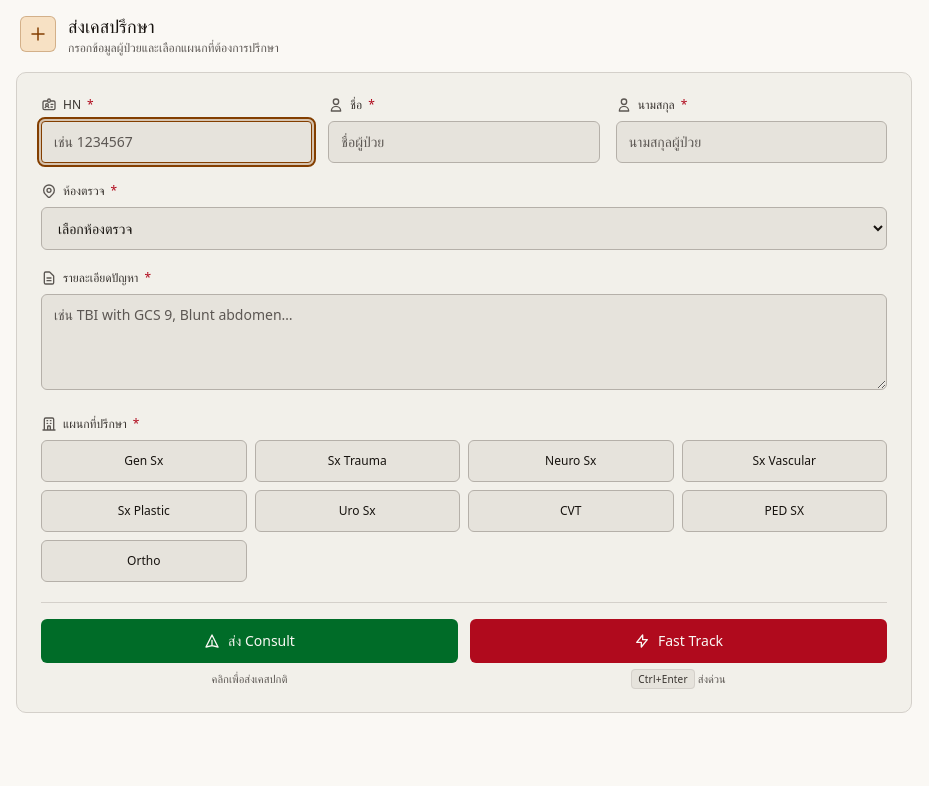
Test: SubmitPage mount and redirect safety › preserves unrelated pending recovery banner and keeps staff on /submit after submitting a new case
Type "123456" into the field labelled "HN *". click: (177,142)
box: [41,121,312,163]
Type "สมชาย" into the field with placeholder "ชื่อผู้ป่วย". click: (464,142)
box: [328,121,600,163]
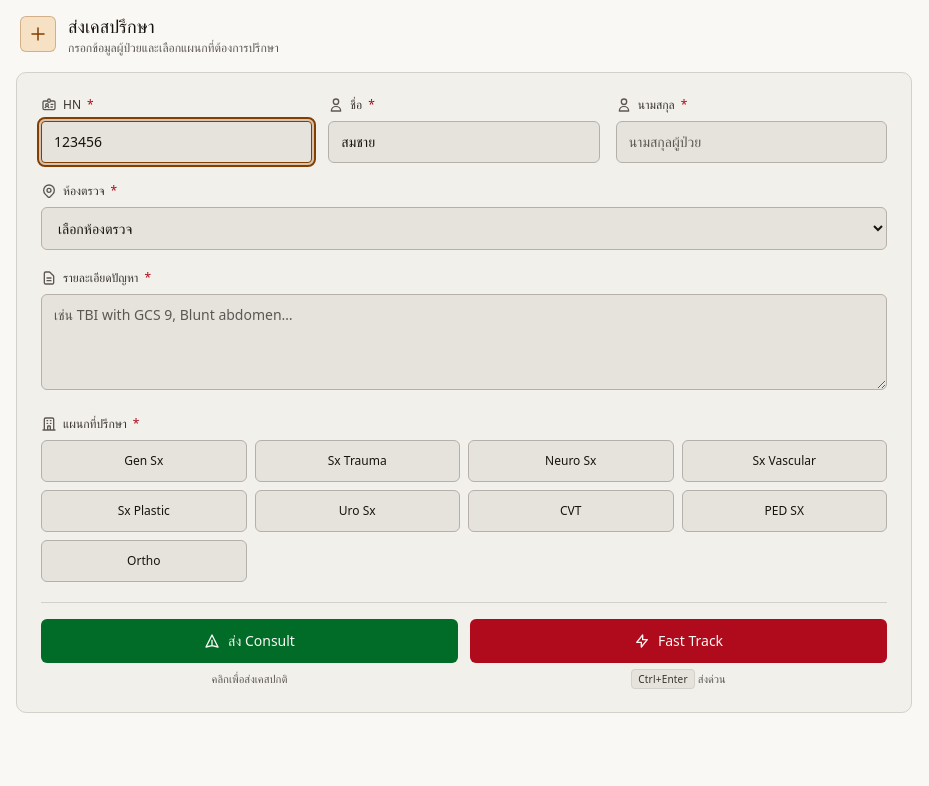
Type "ใจดี" into the field with placeholder "นามสกุลผู้ป่วย". click: (751,142)
box: [616,121,887,163]
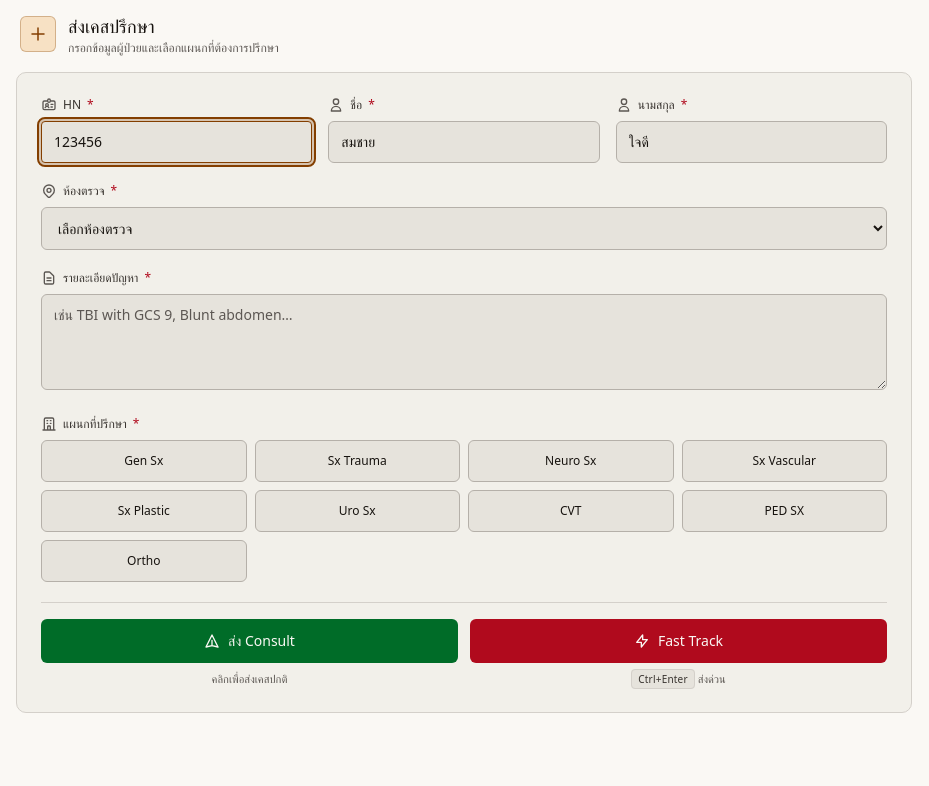
Select "Resus Team 1" in the dropdown labelled "ห้องตรวจ *". click: (464,228)
box: [41,207,887,250]
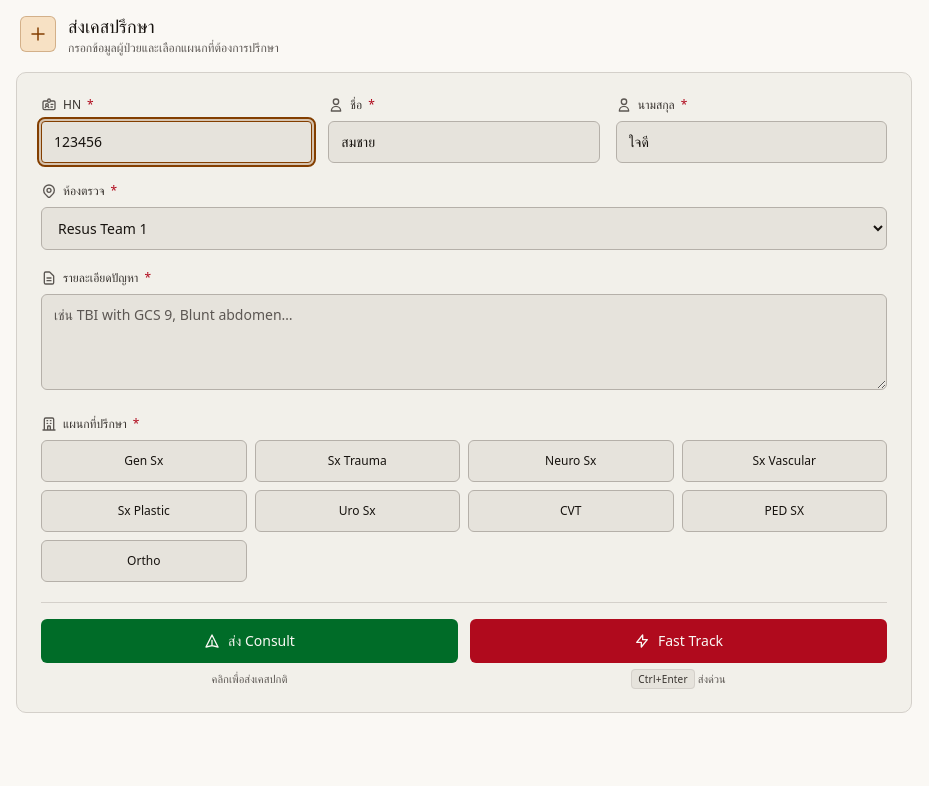
Type "Acute abdomen" into the text box labelled "รายละเอียดปัญหา *". click: (464,342)
box: [41,294,887,390]
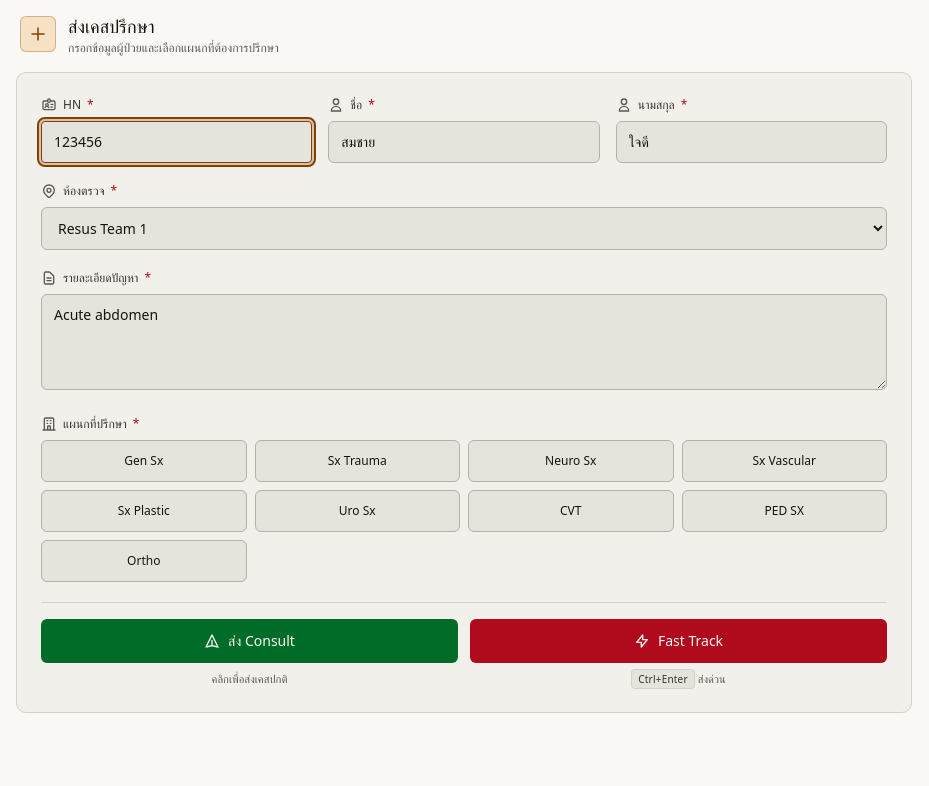
Click the checkbox labelled "Gen Sx". click: (144,461)
box: [41,440,246,482]
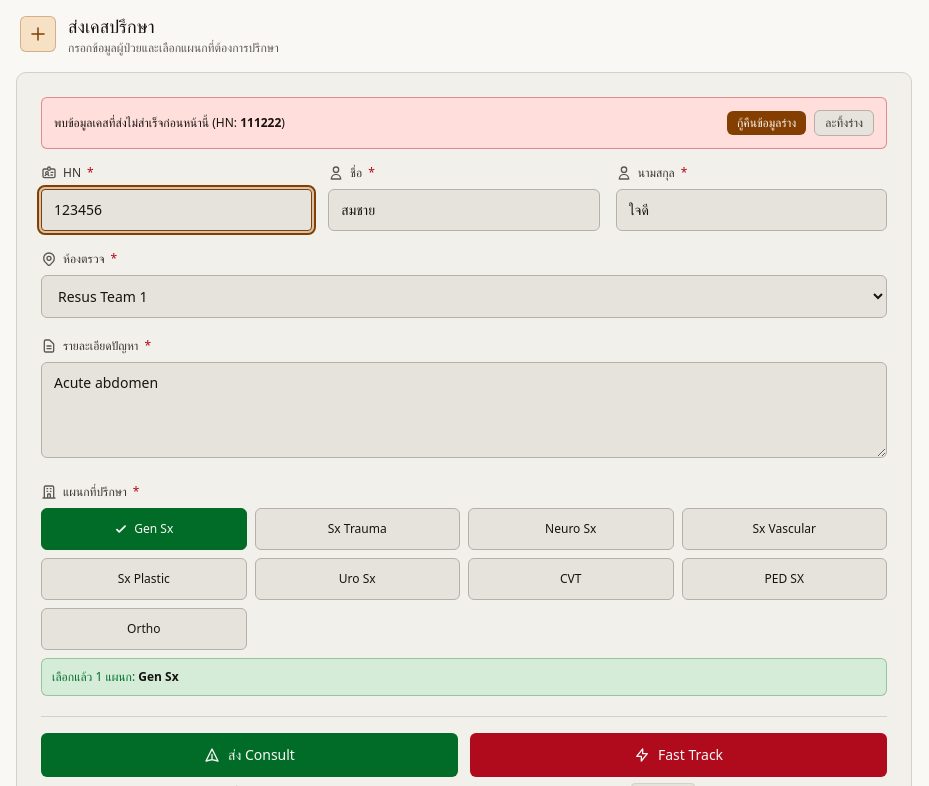
Now the button "กู้คืนข้อมูลร่าง" is shown, box [727,111,806,135]
Click the button "ส่ง Consult". click: (250,755)
box: [41,733,458,777]
Wait 2000 ms
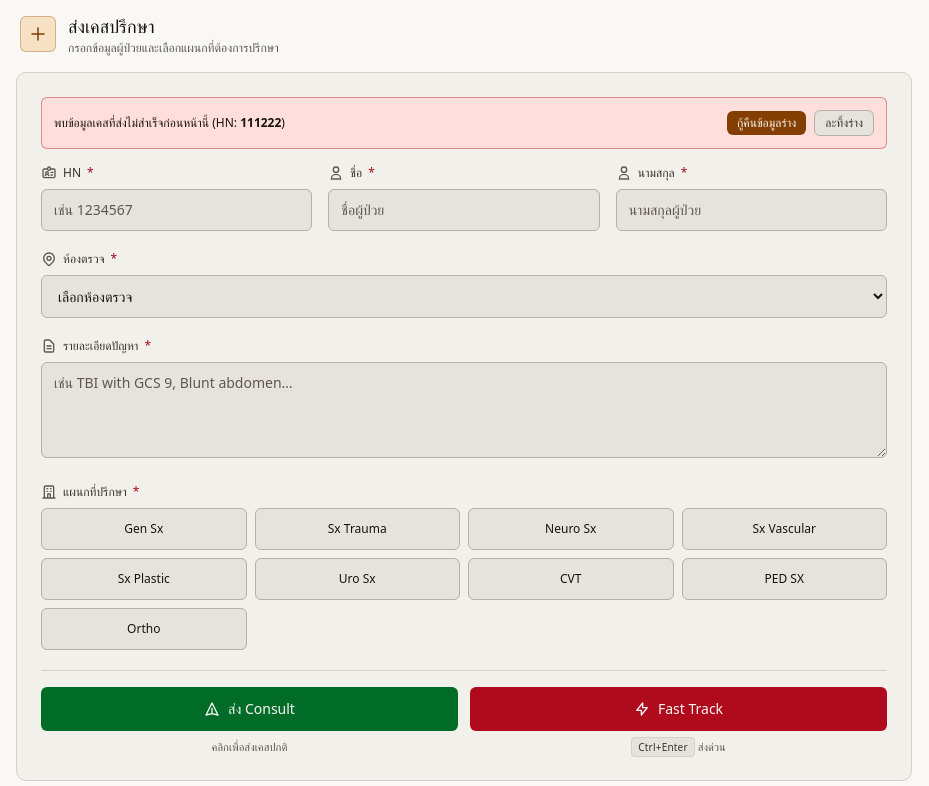
Expected: the button "ส่ง Consult" is enabled, [41,687,458,731]
Now the button "กู้คืนข้อมูลร่าง" is shown, box [727,111,806,135]
Now the field labelled "HN *" is empty, box [41,189,312,231]
